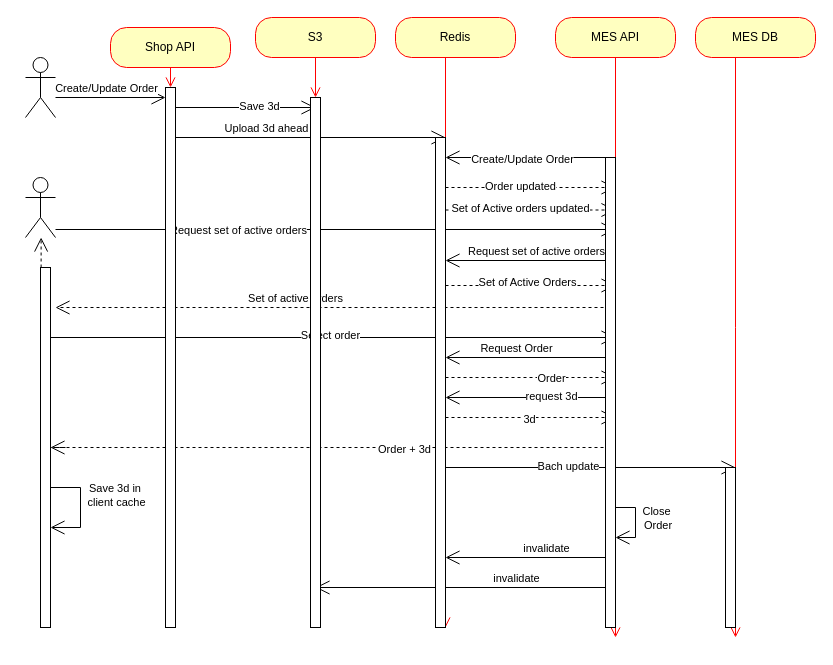
This 833x665 diagram has some shape labels left out. The centre of each missing label's shape, as x and y in pixels:
"Client" goes at (x=40, y=87).
"Operator" goes at (x=40, y=207).
